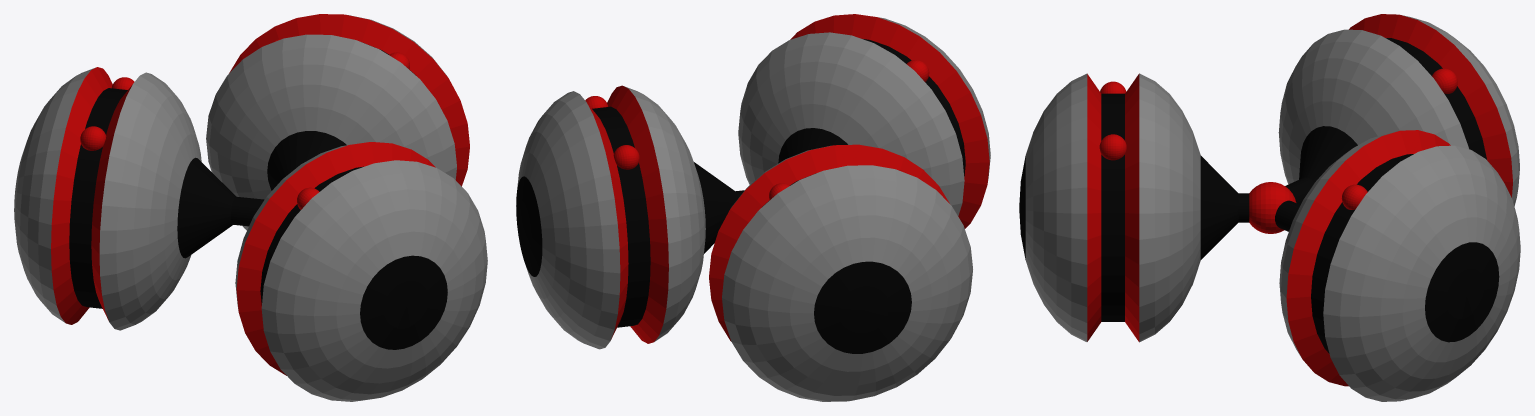
Rendered from Minion C.fbx.
The picture shows the model from 3 angles, left to right: view 1: azimuth 30°, elevation 25°; view 2: azimuth 150°, elevation 25°; view 3: azimuth 270°, elevation 25°; orthographic projection. The views are drawn at different scales.
Parts seen in each view (by area): view 1: Sphere; view 2: Sphere; view 3: Sphere.
Boxes of the visible parts, box(x1,y1,x2,y2) form: Sphere: box(14, 14, 487, 401); Sphere: box(516, 14, 990, 401); Sphere: box(1019, 14, 1520, 401).
Size of the model in its own units: 376 by 196 by 365.
